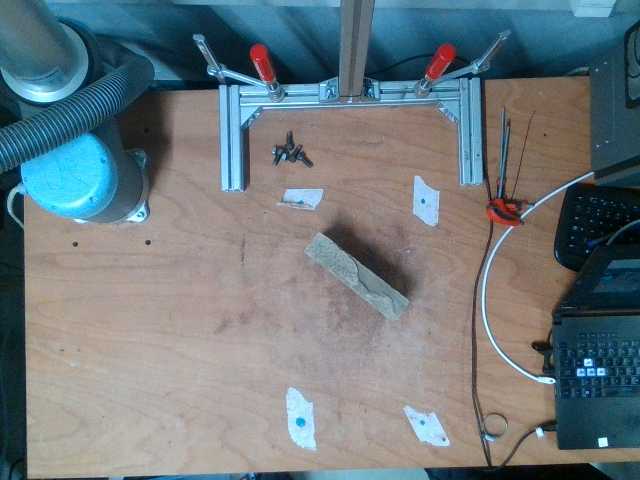brick-side: (305, 235, 405, 317)
